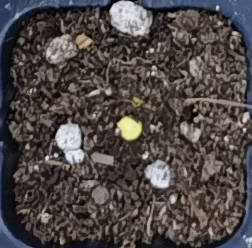pepper seed: (43, 42, 189, 185)
